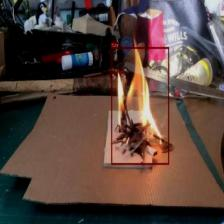fire: (111, 46, 169, 164)
